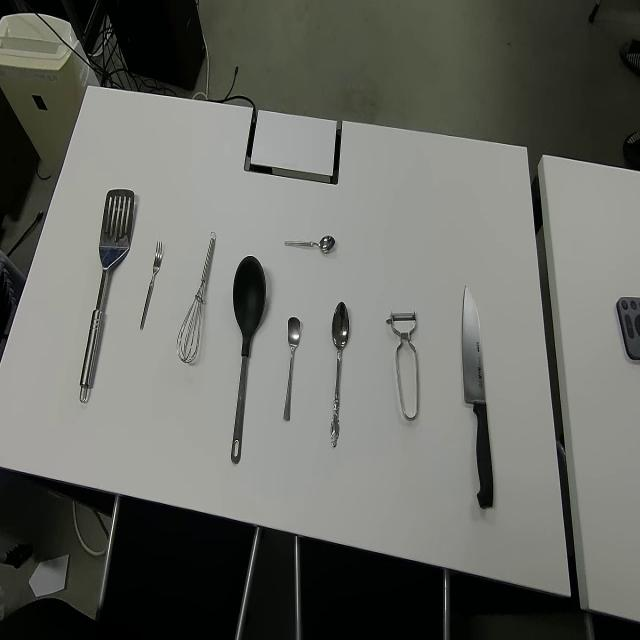Desert-Spoon: (330, 298, 351, 448)
Dinner-Fork: (139, 238, 164, 333)
Kitchen-Knife: (461, 282, 495, 510)
Peeler: (386, 309, 420, 423)
Serving-Spoon: (78, 187, 136, 404), (230, 253, 267, 466)
Tea-Spoon: (283, 314, 303, 423), (283, 233, 336, 256)
Whisk: (176, 229, 217, 365)
